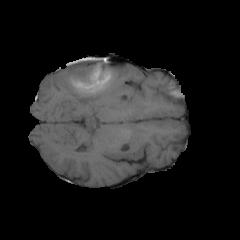glioma: (64, 57, 126, 104)
